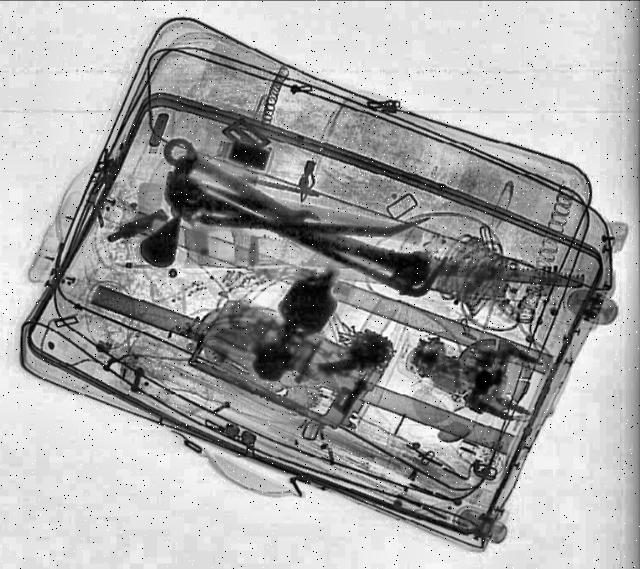Wrench: (155, 131, 325, 237)
